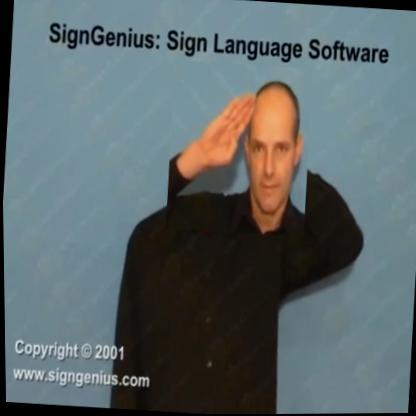Hello: (163, 60, 315, 239)
